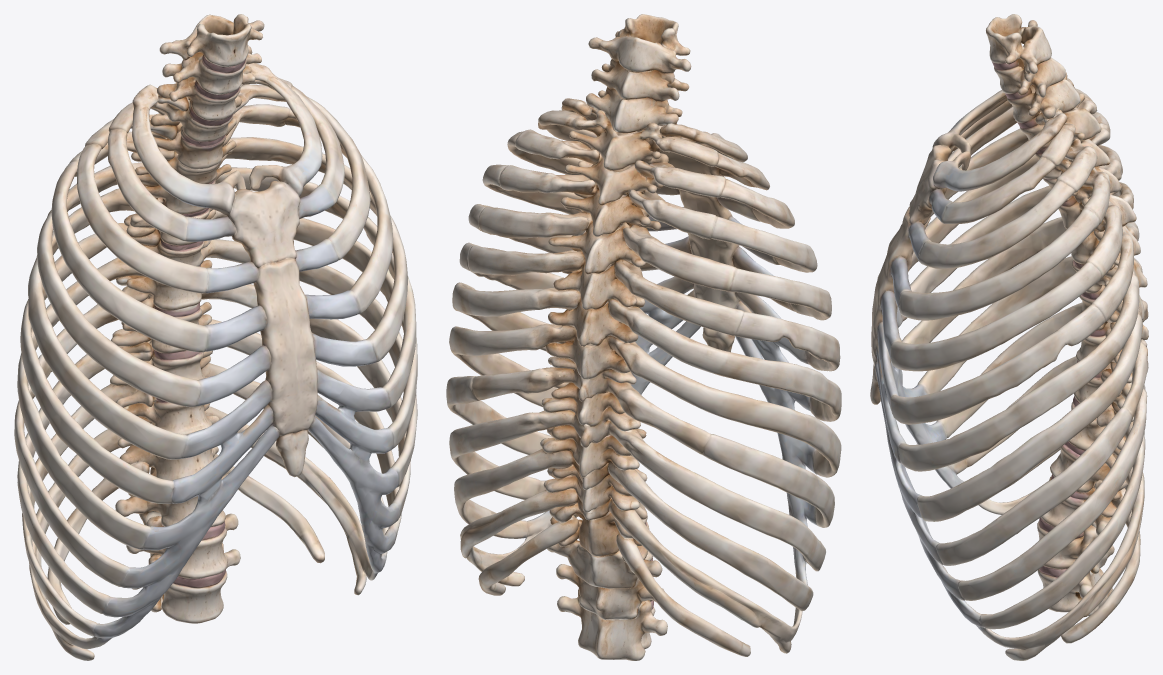
Rendered from ribs.glb.
The picture shows the model from 3 angles, left to right: view 1: azimuth 30°, elevation 25°; view 2: azimuth 150°, elevation 25°; view 3: azimuth 270°, elevation 25°; orthographic projection. The views are drawn at different scales.
Parts seen in each view (by area): view 1: human-rib-cage; view 2: human-rib-cage; view 3: human-rib-cage.
Part boxes in pixels (bbox=[...]): human-rib-cage: bbox=[14, 14, 417, 660]; human-rib-cage: bbox=[446, 14, 841, 660]; human-rib-cage: bbox=[870, 14, 1148, 660].
Size of the model in its own units: 0.2131 by 0.34 by 0.148.
Materials: 1 (1 with a texture image).
